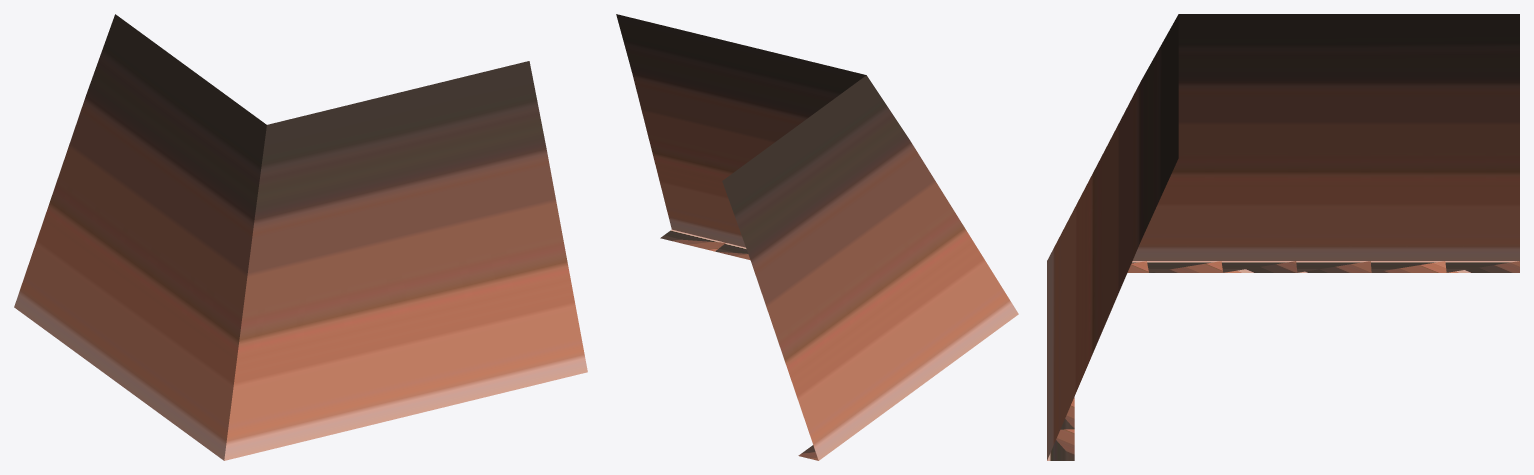
File: Corner_Roof.fbx
3 renders of one model, left to right at view 1: azimuth 30°, elevation 25°; view 2: azimuth 150°, elevation 25°; view 3: azimuth 270°, elevation 25°, orthographic. The views are drawn at different scales.
Visible parts, largest first — view 1: Corner_Roof; view 2: Corner_Roof; view 3: Corner_Roof.
Boxes of the visible parts, box(x1,y1,x2,y2) form: Corner_Roof: box(14, 14, 587, 460); Corner_Roof: box(616, 14, 1018, 460); Corner_Roof: box(1047, 14, 1519, 460).
Size of the model in its own units: 425 by 300 by 425.
